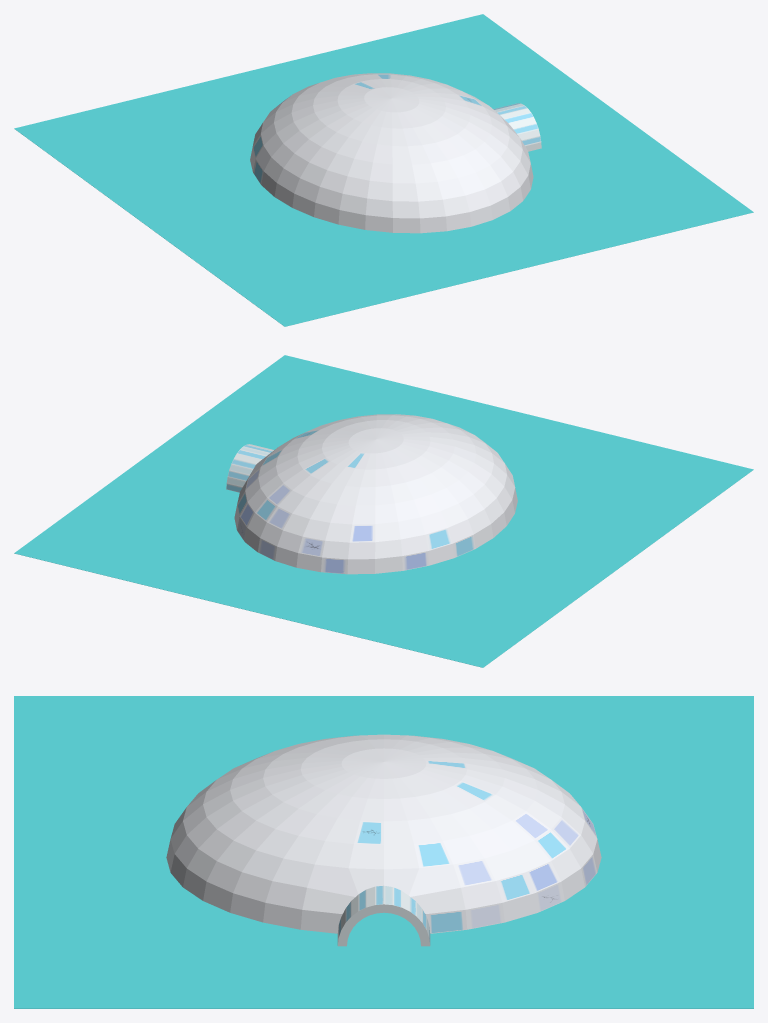
Rendered from igloo.gltf.
3 views of the same model, one above another, from view 1: azimuth 30°, elevation 25°; view 2: azimuth 150°, elevation 25°; view 3: azimuth 270°, elevation 25° (orthographic). The views are drawn at different scales.
Visible parts, largest first — view 1: Cube, Cylinder.001; view 2: Cube, Cylinder.001; view 3: Cube, Cylinder.001.
Part boxes in pixels (x1,y1,x2,y2): Cube: (14, 14, 753, 326); Cylinder.001: (250, 73, 541, 233); Cube: (14, 355, 753, 667); Cylinder.001: (226, 414, 517, 574); Cube: (14, 696, 753, 1008); Cylinder.001: (166, 734, 601, 946).
Bounding box in the file's own units: 60 × 8.58 × 60.
3 materials, 3 textured.
